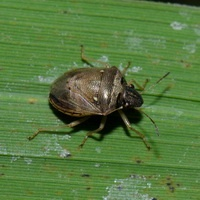insect: (28, 45, 149, 149)
